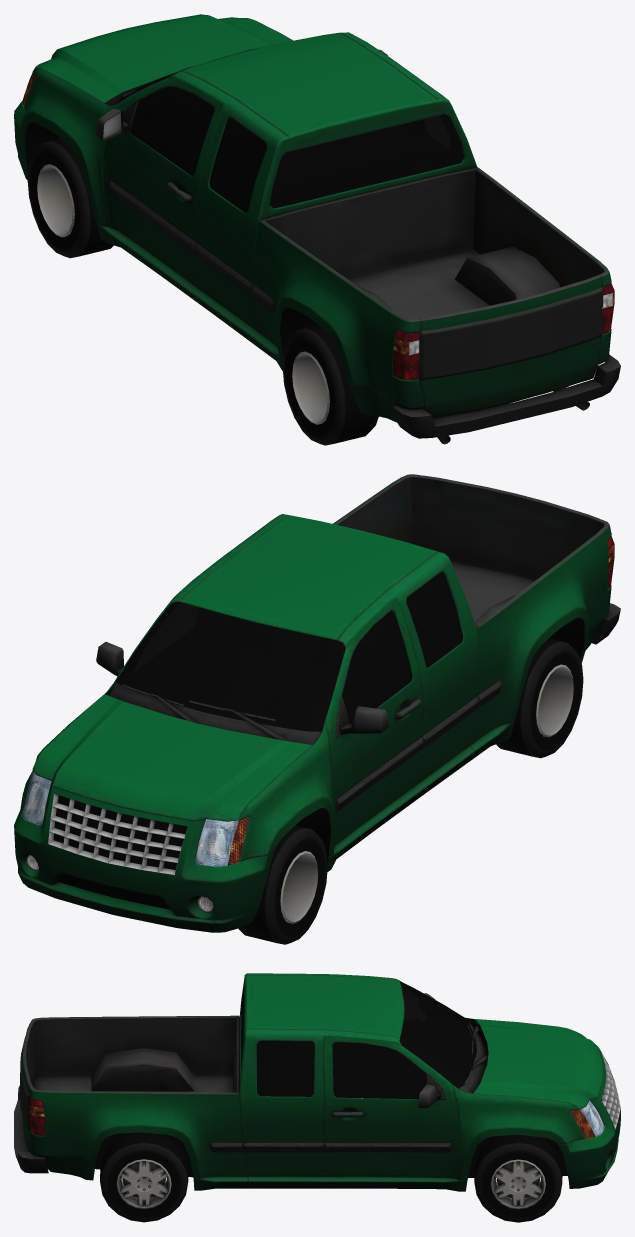
File: pickup.glb
3 views of the same model, one above another, from view 1: azimuth 30°, elevation 25°; view 2: azimuth 150°, elevation 25°; view 3: azimuth 270°, elevation 25° (orthographic). The views are drawn at different scales.
Visible parts, largest first — view 1: Pickup_Body, wheel_1, wheel_3; view 2: Pickup_Body, wheel_3, wheel_1; view 3: Pickup_Body, wheel_0, wheel_2.
Part boxes in pixels (bbox=[...]): Pickup_Body: bbox=[14, 14, 620, 444]; wheel_1: bbox=[282, 325, 378, 445]; wheel_3: bbox=[27, 138, 113, 258]; Pickup_Body: bbox=[14, 474, 620, 932]; wheel_3: bbox=[238, 825, 327, 944]; wheel_1: bbox=[496, 638, 583, 758]; Pickup_Body: bbox=[14, 973, 620, 1191]; wheel_0: bbox=[100, 1132, 188, 1222]; wheel_2: bbox=[474, 1134, 562, 1222].
Size of the model in its own units: 2.33 by 1.91 by 5.83.
Materials: 4 (3 with a texture image).
